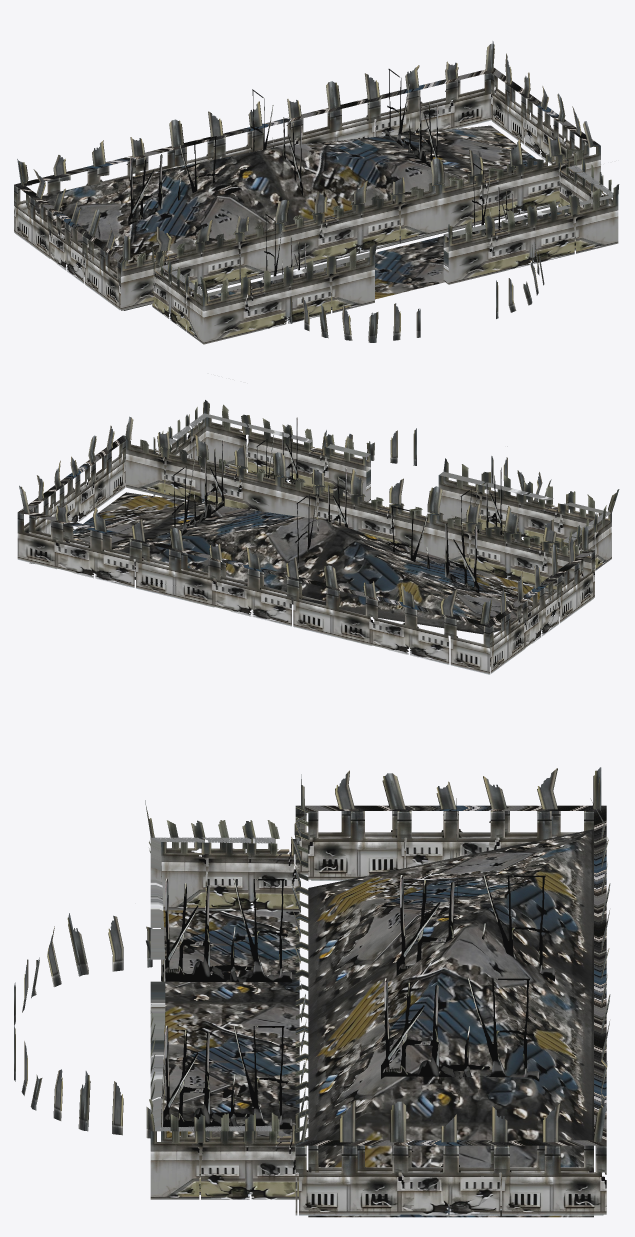
The model's file is s_main_dam_hdtex.glb.
3 views of the same model, one above another, from view 1: azimuth 30°, elevation 25°; view 2: azimuth 150°, elevation 25°; view 3: azimuth 270°, elevation 25° (orthographic). The views are drawn at different scales.
Parts seen in each view (by area): view 1: S_HC_Main; view 2: S_HC_Main; view 3: S_HC_Main.
Part boxes in pixels (x1=…): S_HC_Main: x1=14, y1=41, x2=619, y2=344; S_HC_Main: x1=17, y1=400, x2=619, y2=674; S_HC_Main: x1=14, y1=767, x2=610, y2=1217.
Bounding box in the file's own units: 42.88 × 10.32 × 32.06.
Materials: 4 (4 with a texture image).
